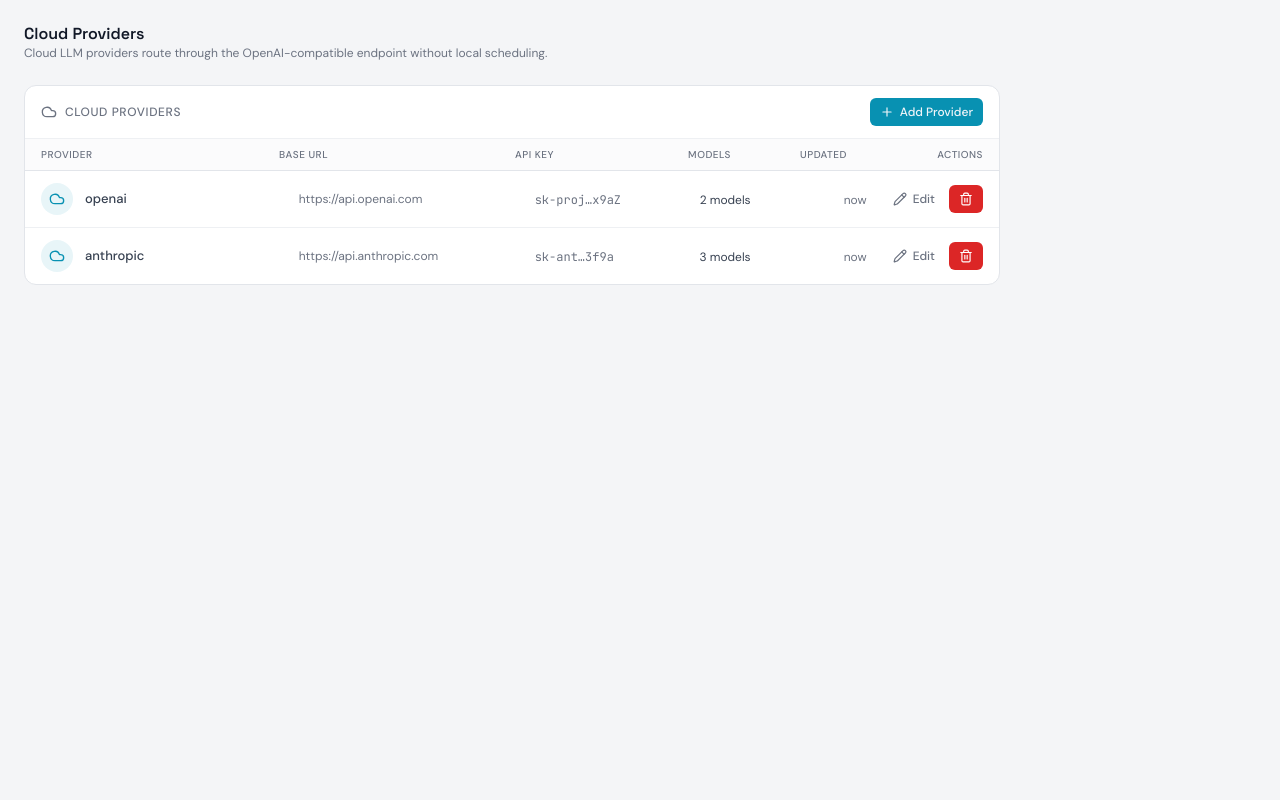
Providers › opens the Add Provider dialog when clicking the Add button
The width and height of the screenshot is (1280, 800).
Expected: the text "openai" is shown, [85, 190, 127, 208]
# Click the card-header Add Provider button (first one)
Click the button "Add Provider" at (926, 112), box [870, 98, 983, 126]
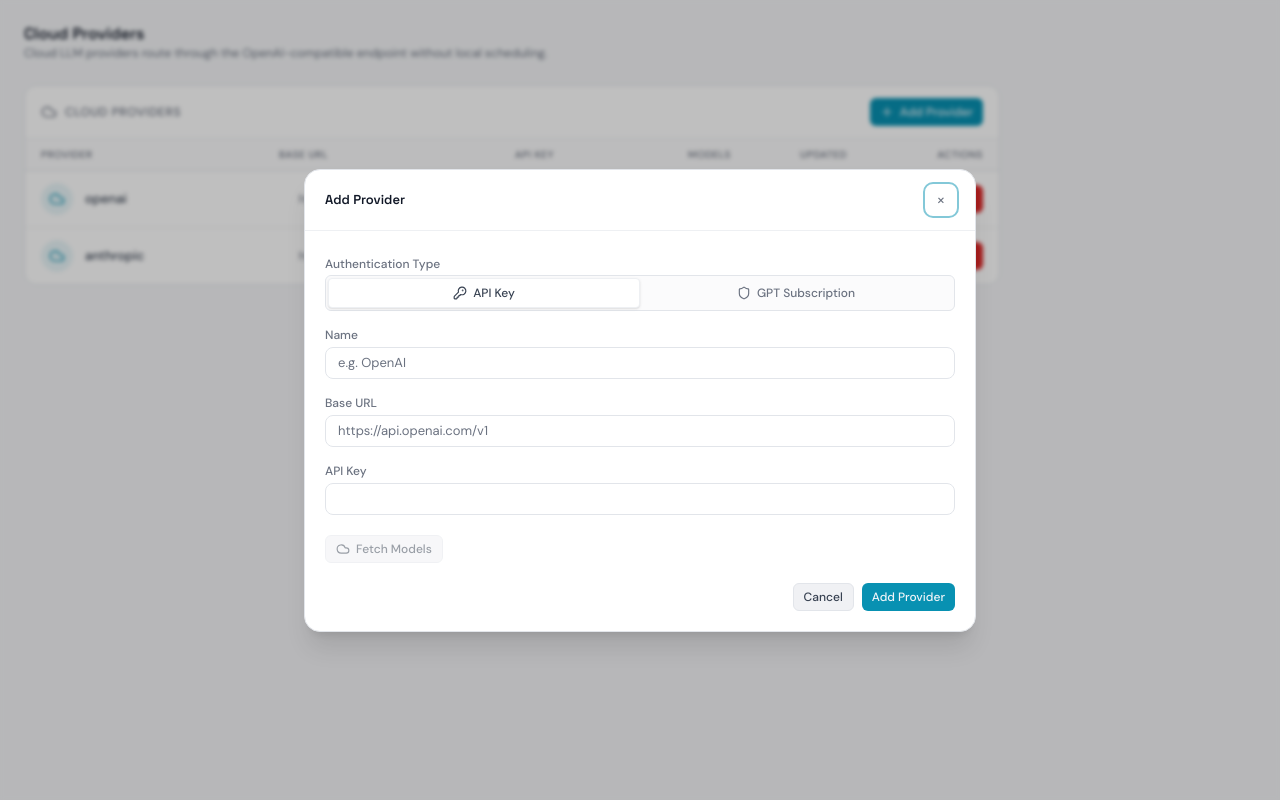
Now the dialog "Add Provider" is shown
Now the text "Name" is shown, box [325, 326, 358, 342]
Now the text "Base URL" is shown, box [325, 394, 377, 410]
